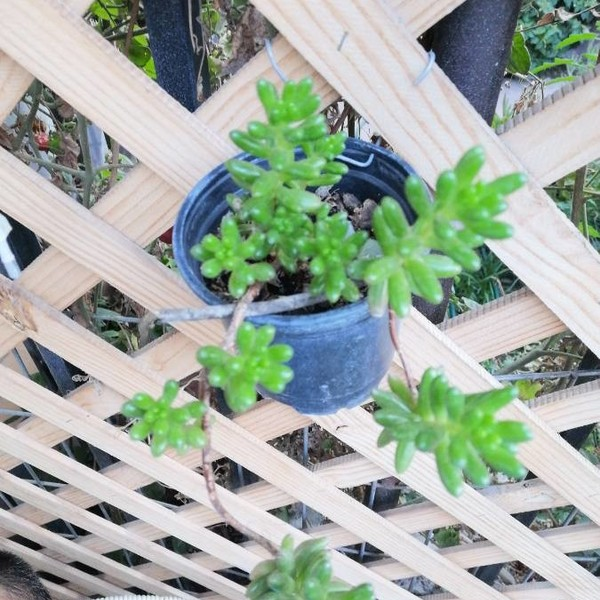obstacle: (121, 79, 530, 571)
